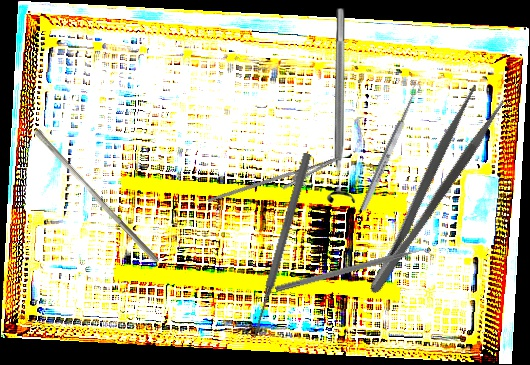Chopper: (274, 244, 435, 301)
Dressing Forceps: (347, 80, 509, 300)
Fixation Ring: (326, 8, 356, 203)
Needle Holder: (207, 141, 344, 227)
Pusher: (28, 127, 165, 265), (249, 152, 313, 338)
Surgical Spoon: (358, 82, 423, 213)
